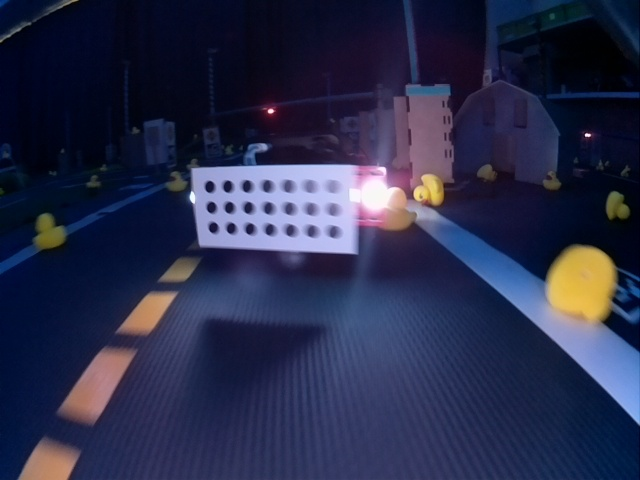Duckie: (546, 245, 615, 323), (382, 187, 416, 231), (33, 213, 65, 248), (413, 174, 445, 206), (606, 191, 628, 218), (165, 171, 187, 191), (543, 171, 561, 190), (477, 164, 496, 181), (86, 175, 101, 187)
Duckiebot: (191, 150, 386, 256)
QR code: (615, 268, 640, 322)
